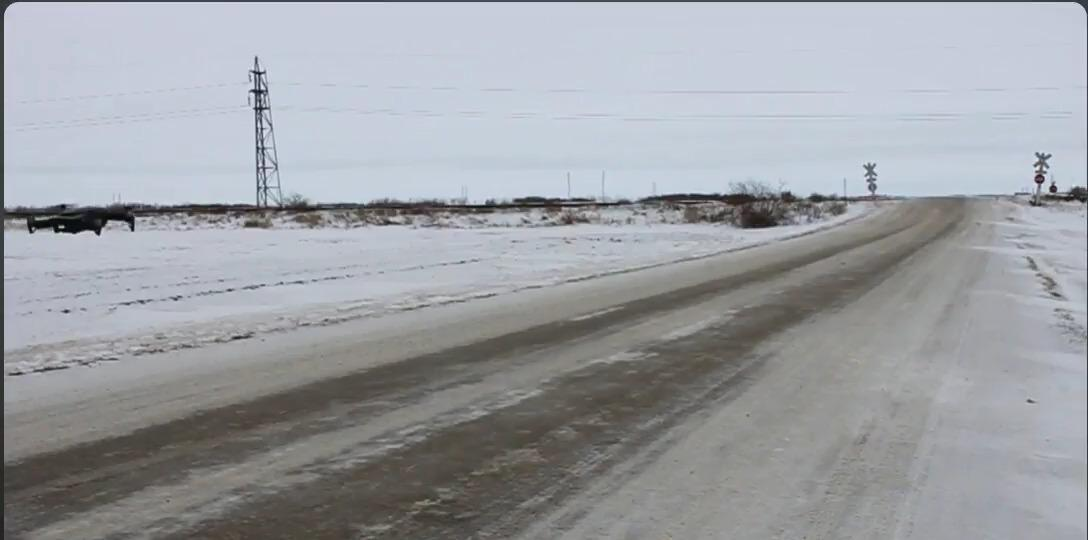dr: (18, 200, 143, 238)
